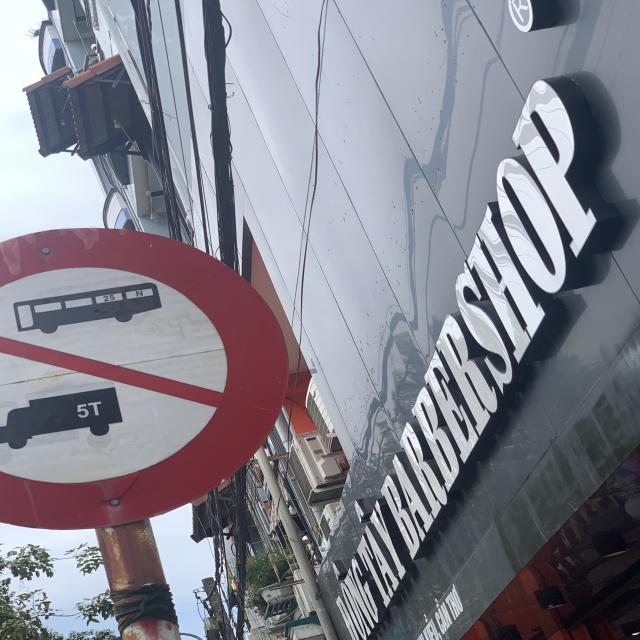Cam_XeTai_XeKhach: (0, 228, 289, 530)
